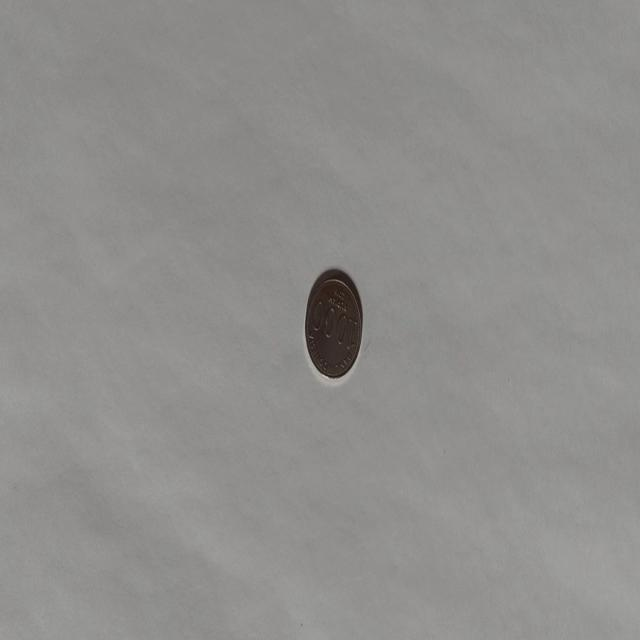seribu rupiah koin: (303, 266, 363, 382)
